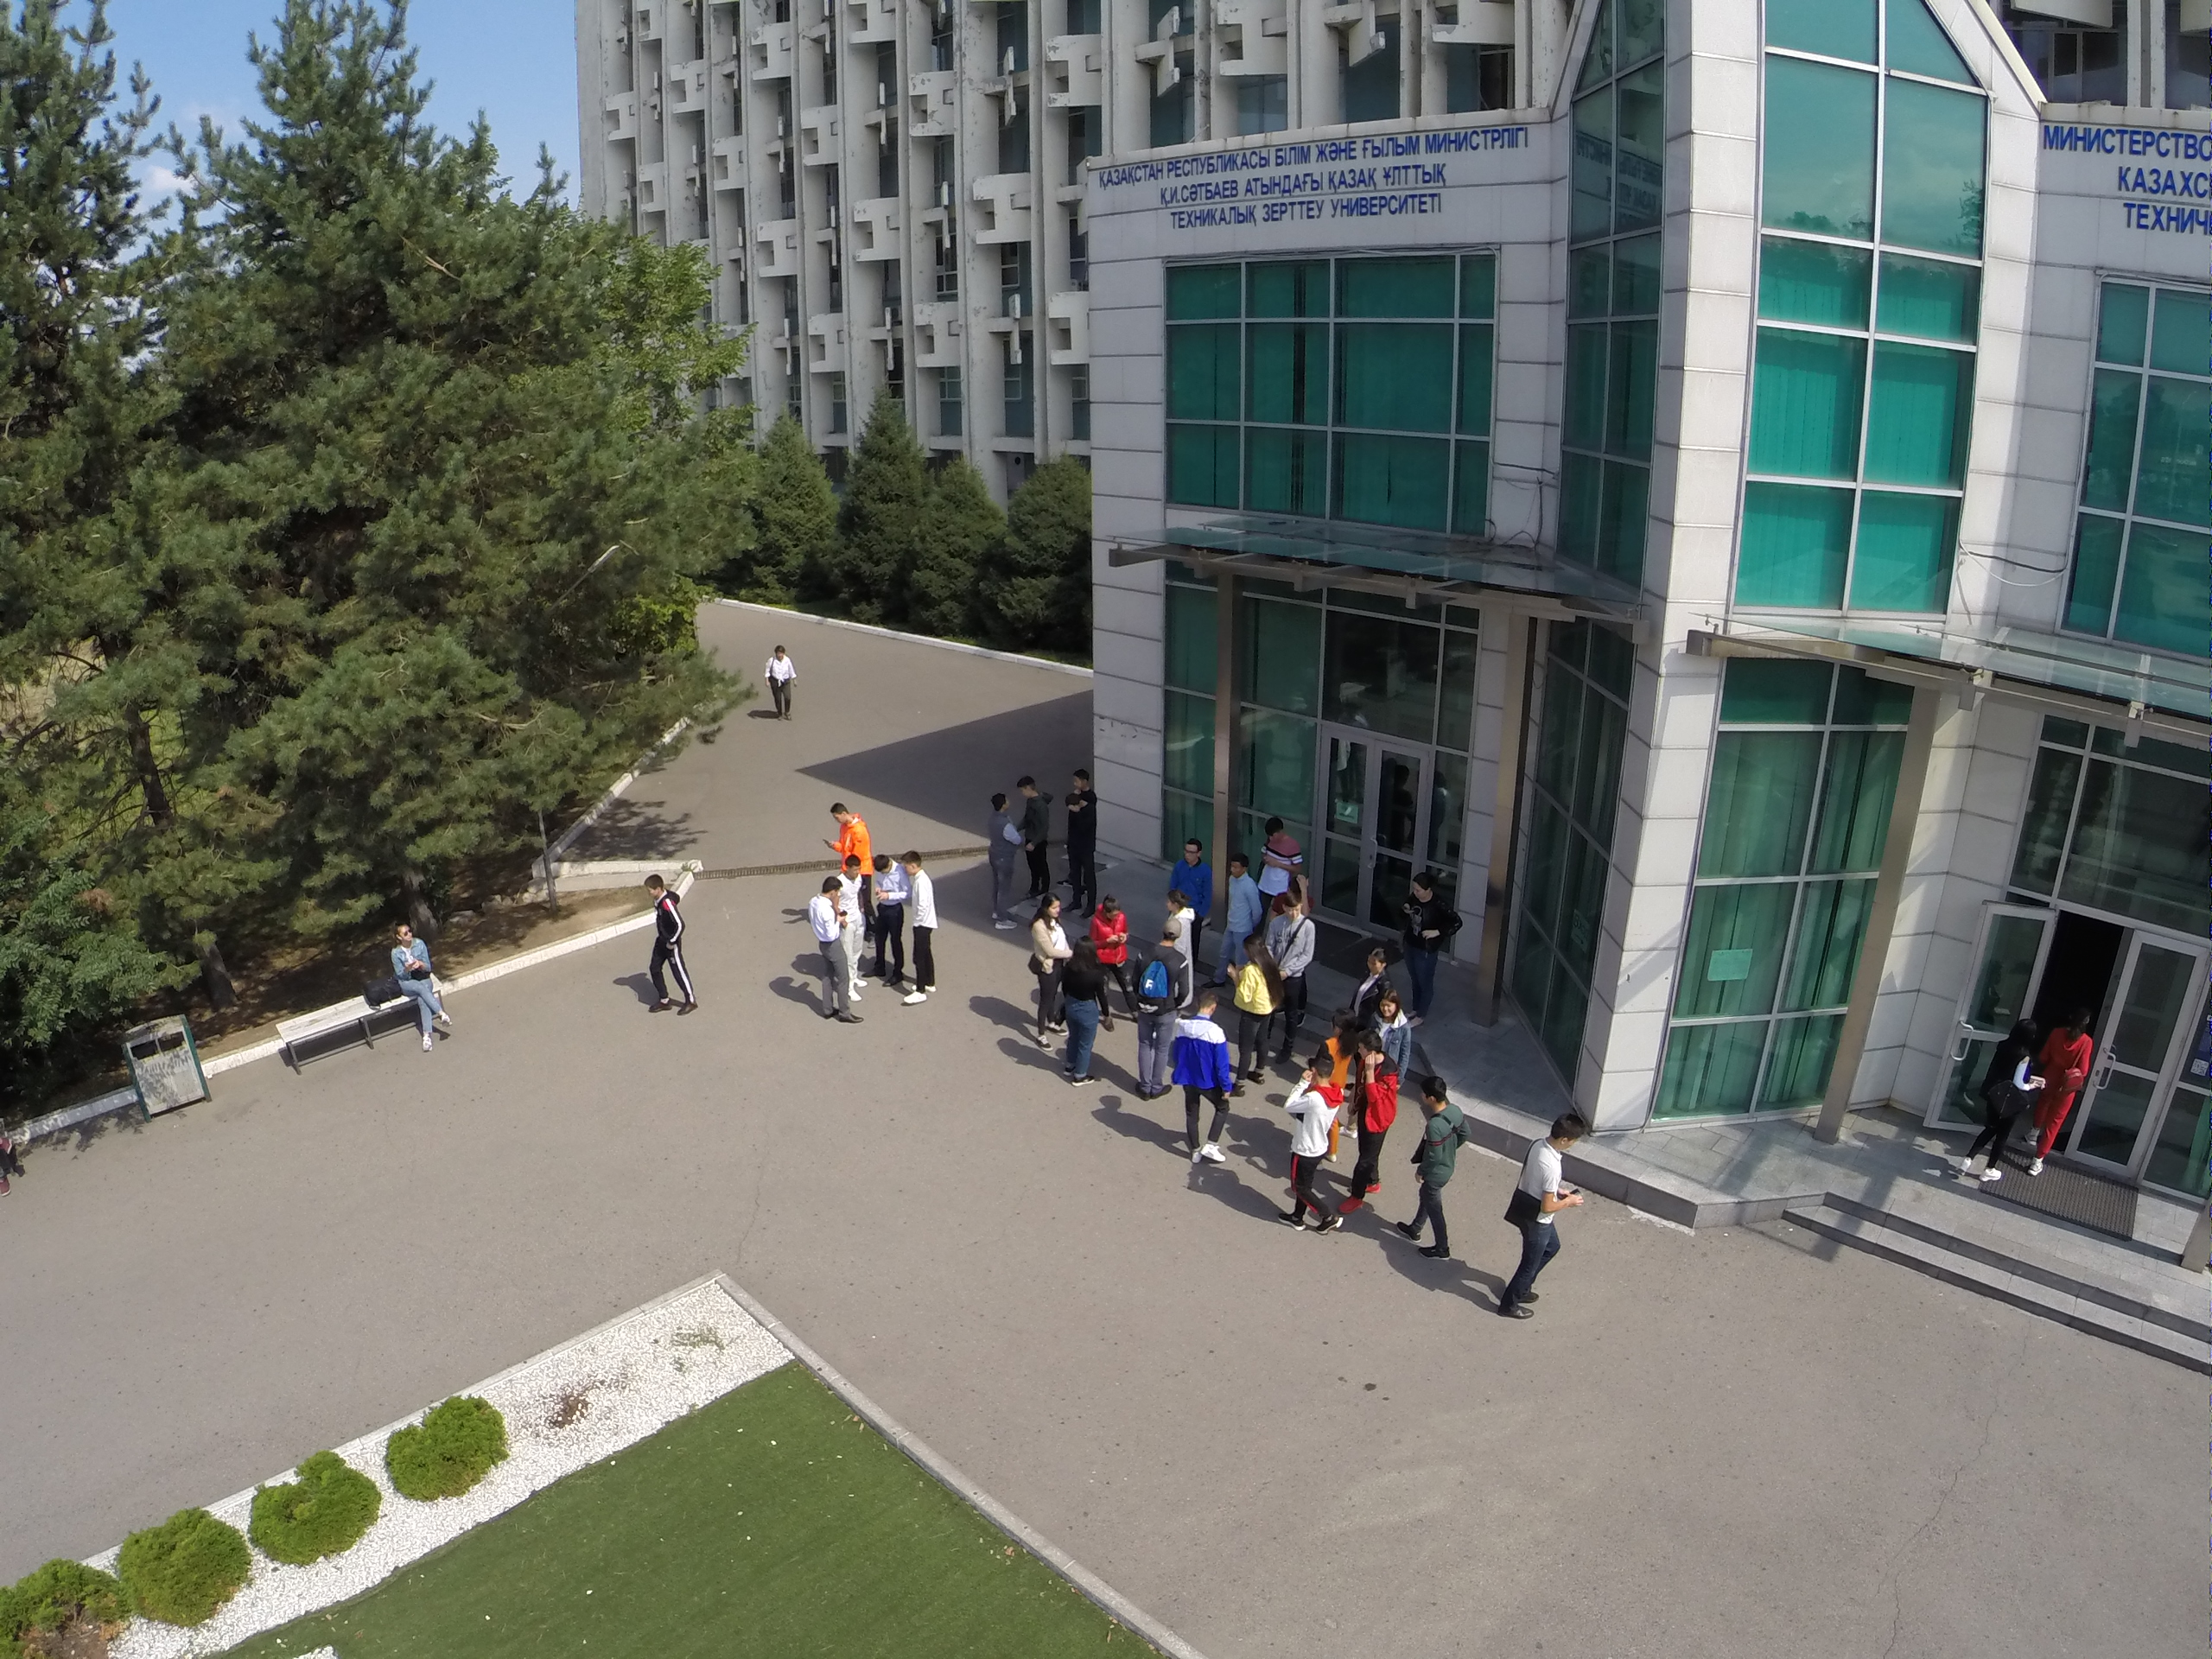person: (1491, 1109, 1597, 1333), (1944, 1014, 2042, 1194), (2025, 1008, 2102, 1186), (1403, 1070, 1469, 1265), (1283, 1056, 1350, 1246), (1128, 919, 1192, 1103), (1345, 1020, 1408, 1207), (1168, 988, 1231, 1174), (633, 864, 702, 1020), (1404, 874, 1459, 1026), (388, 919, 453, 1047), (806, 876, 858, 1031), (1028, 893, 1078, 1051), (1235, 933, 1283, 1094), (903, 850, 940, 1015), (1058, 934, 1098, 1091), (1091, 900, 1138, 1023), (1268, 894, 1319, 1002), (1064, 766, 1100, 911), (829, 850, 864, 1003), (1016, 771, 1052, 894), (870, 848, 901, 984), (988, 793, 1015, 934), (1363, 993, 1416, 1061), (1346, 945, 1395, 1014), (1220, 852, 1258, 940), (1255, 817, 1299, 885), (1176, 836, 1218, 900), (765, 646, 801, 719), (830, 798, 866, 864)
